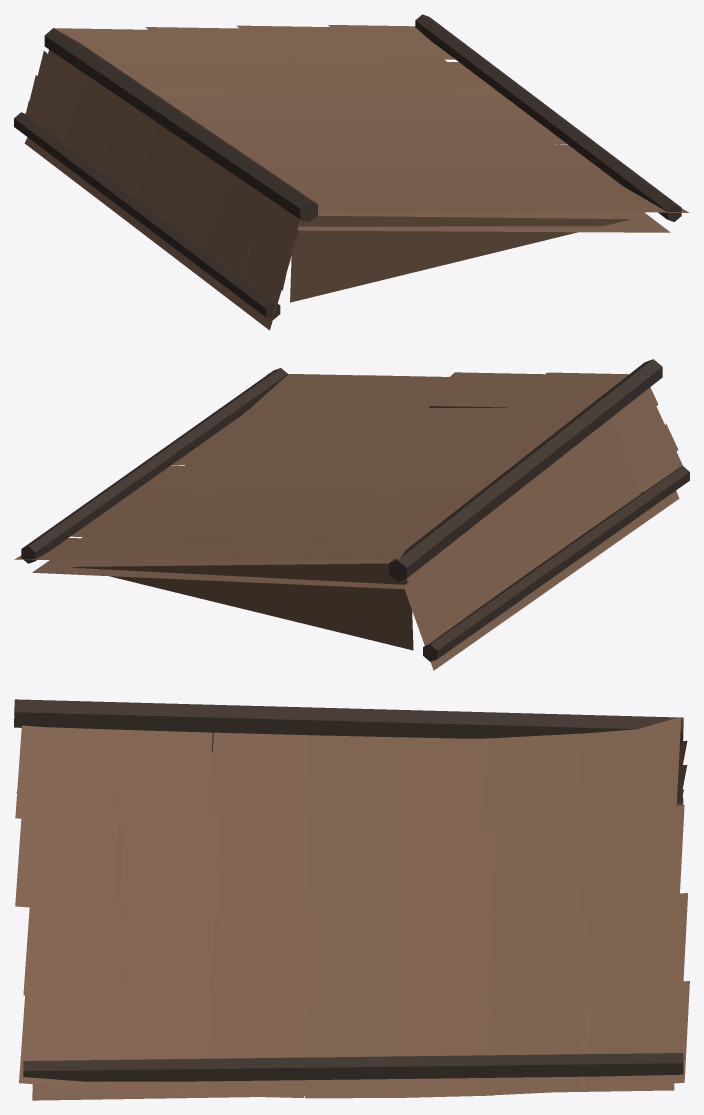
The model's file is roof_shed.glb.
3 renders of one model, top to bottom at view 1: azimuth 30°, elevation 25°; view 2: azimuth 150°, elevation 25°; view 3: azimuth 270°, elevation 25°, orthographic. The views are drawn at different scales.
Visible parts, largest first — view 1: weatherboard gable.004, patched ridge.002, bowed eave.005, bowed eave.004, crooked roof underlay.005, uneven overlapping shingles.146, uneven overlapping shingles.160, uneven overlapping shingles.153, uneven overlapping shingles.159, uneven overlapping shingles.152, uneven overlapping shingles.151, uneven overlapping shingles.145 (+45 smaller); view 2: weatherboard gable.005, patched ridge.002, bowed eave.004, bowed eave.005, crooked roof underlay.005, uneven overlapping shingles.147, uneven overlapping shingles.154, uneven overlapping shingles.148, uneven overlapping shingles.161, uneven overlapping shingles.156, uneven overlapping shingles.163, uneven overlapping shingles.155 (+46 smaller); view 3: patched ridge.002, bowed eave.005, uneven overlapping shingles.146, uneven overlapping shingles.147, uneven overlapping shingles.160, uneven overlapping shingles.153, uneven overlapping shingles.148, uneven overlapping shingles.159, uneven overlapping shingles.156, uneven overlapping shingles.145, uneven overlapping shingles.154, uneven overlapping shingles.151 (+19 smaller).
Part boxes in pixels (<box>): weatherboard gable.004: <box>290,215,630,302</box>; patched ridge.002: <box>44,28,317,222</box>; bowed eave.005: <box>415,14,681,221</box>; bowed eave.004: <box>14,112,280,319</box>; crooked roof underlay.005: <box>266,58,670,232</box>; uneven overlapping shingles.146: <box>55,28,199,63</box>; uneven overlapping shingles.160: <box>236,25,381,60</box>; uneven overlapping shingles.153: <box>146,27,290,61</box>; uneven overlapping shingles.159: <box>277,59,418,91</box>; uneven overlapping shingles.152: <box>186,60,324,90</box>; uneven overlapping shingles.151: <box>223,89,360,118</box>; uneven overlapping shingles.145: <box>108,61,236,93</box>; weatherboard gable.005: <box>72,563,413,650</box>; patched ridge.002: <box>388,359,662,581</box>; bowed eave.004: <box>423,466,689,661</box>; bowed eave.005: <box>21,368,287,563</box>; crooked roof underlay.005: <box>32,408,548,589</box>; uneven overlapping shingles.147: <box>431,372,557,407</box>; uneven overlapping shingles.154: <box>335,375,462,409</box>; uneven overlapping shingles.148: <box>378,408,518,439</box>; uneven overlapping shingles.161: <box>252,373,371,407</box>; uneven overlapping shingles.156: <box>249,437,389,467</box>; uneven overlapping shingles.163: <box>172,435,300,466</box>; uneven overlapping shingles.155: <box>302,407,428,437</box>; patched ridge.002: <box>14,699,683,745</box>; bowed eave.005: <box>23,1053,683,1081</box>; uneven overlapping shingles.146: <box>577,717,681,826</box>; uneven overlapping shingles.147: <box>15,805,119,907</box>; uneven overlapping shingles.160: <box>584,893,687,1002</box>; uneven overlapping shingles.153: <box>580,805,684,914</box>; uneven overlapping shingles.148: <box>119,813,220,919</box>; uneven overlapping shingles.159: <box>486,901,589,1007</box>; uneven overlapping shingles.156: <box>213,906,313,1009</box>; uneven overlapping shingles.145: <box>480,733,583,831</box>; uneven overlapping shingles.154: <box>23,894,125,995</box>; uneven overlapping shingles.151: <box>398,818,496,921</box>.
Bounding box in the file's own units: 1.43 × 0.41 × 1.52.
